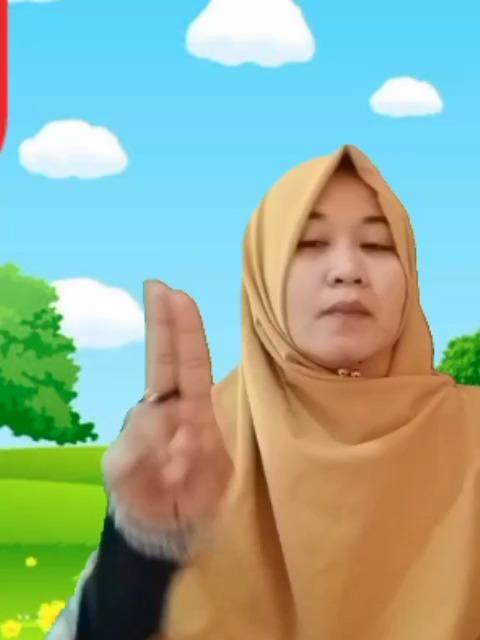U: (94, 271, 237, 539)
